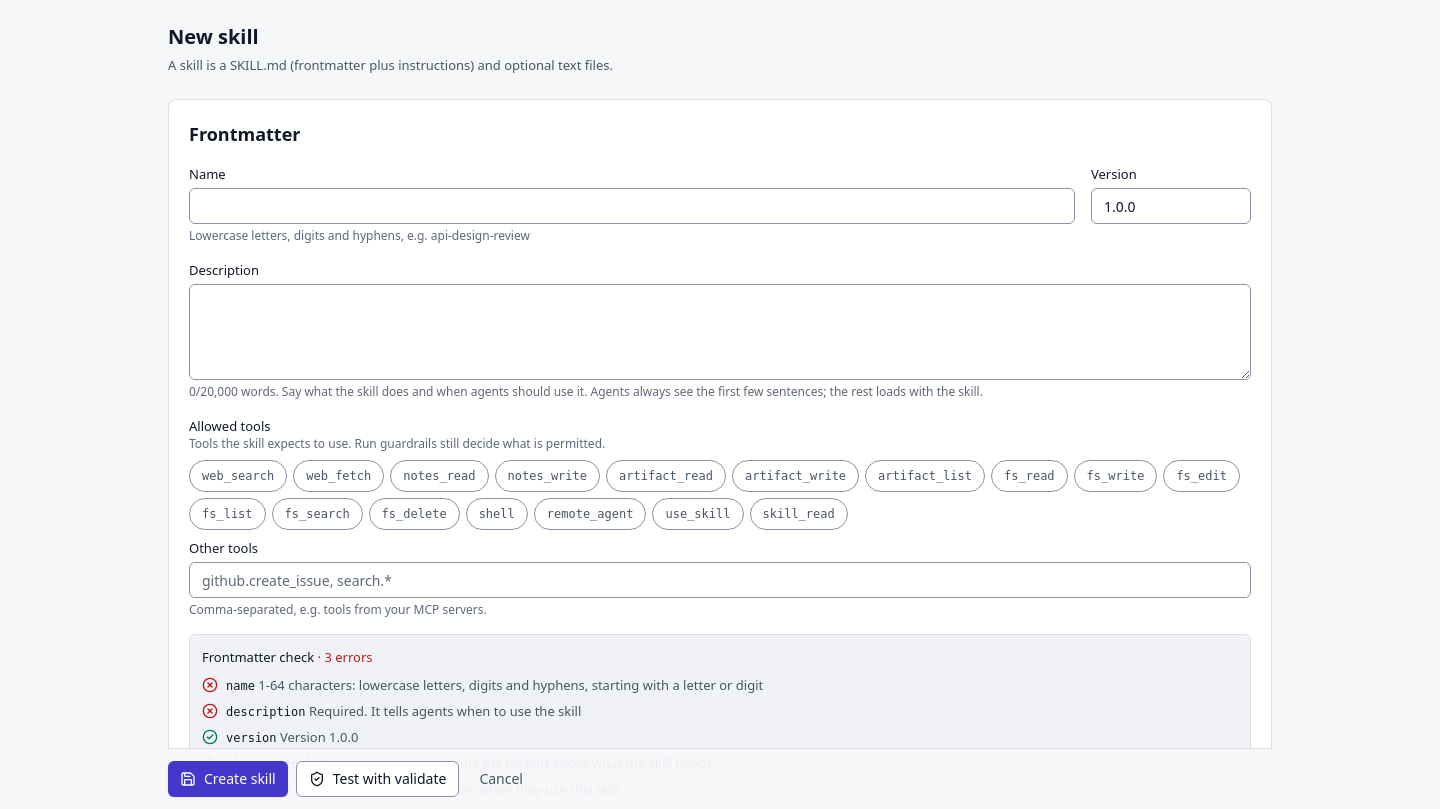
Test: SkillEditor › shows client-side errors on save and server validation errors on Validate
Click the button "Create skill": (228, 779) [168,761,288,797]
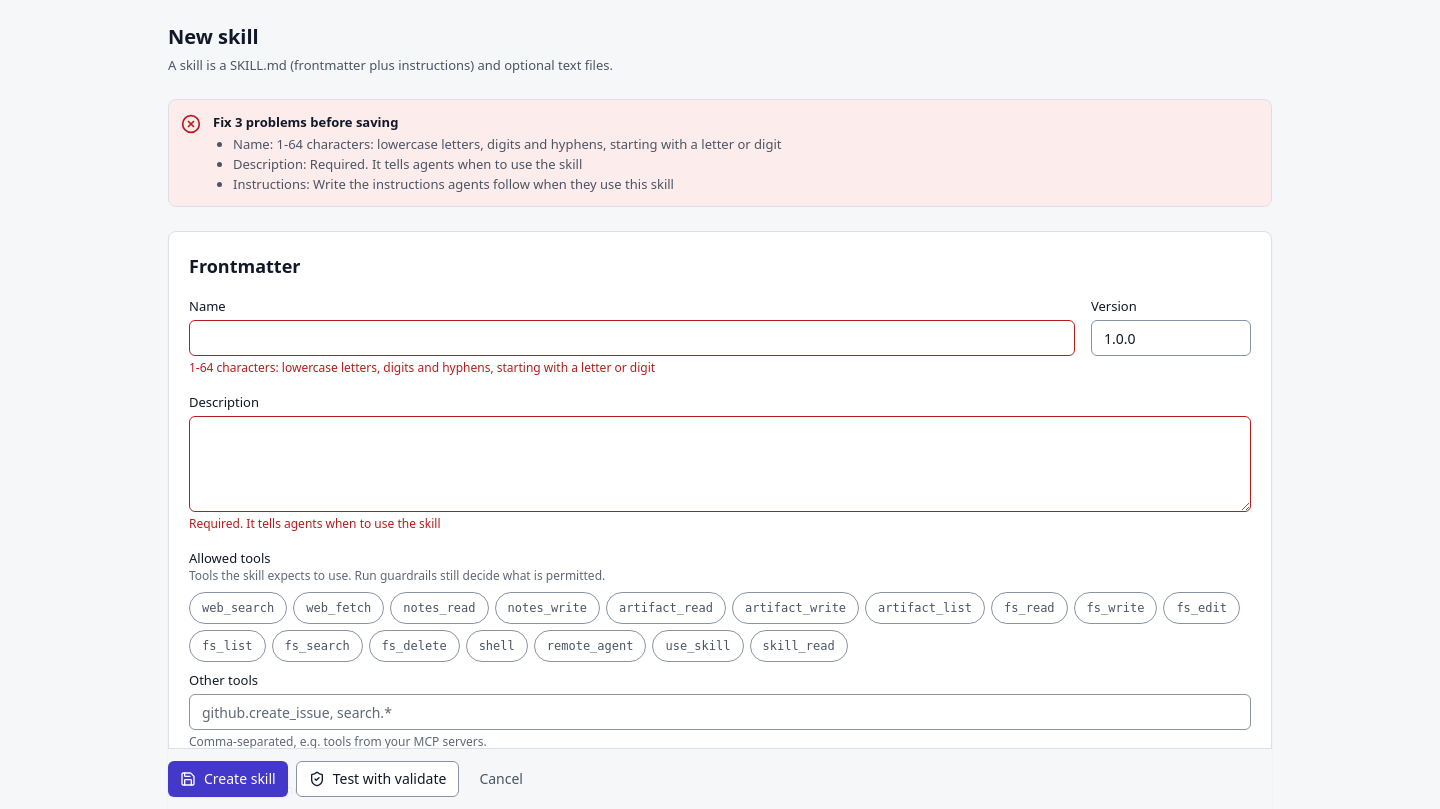
Now the text "Fix 3 problems before saving" is shown, box [213,113,398,131]
Now the list item "lowercase letters, digits and hyphens" is shown, box [233,135,782,153]
Click the button "Test with validate": (378, 779) [296,761,459,797]
(page scrolled)
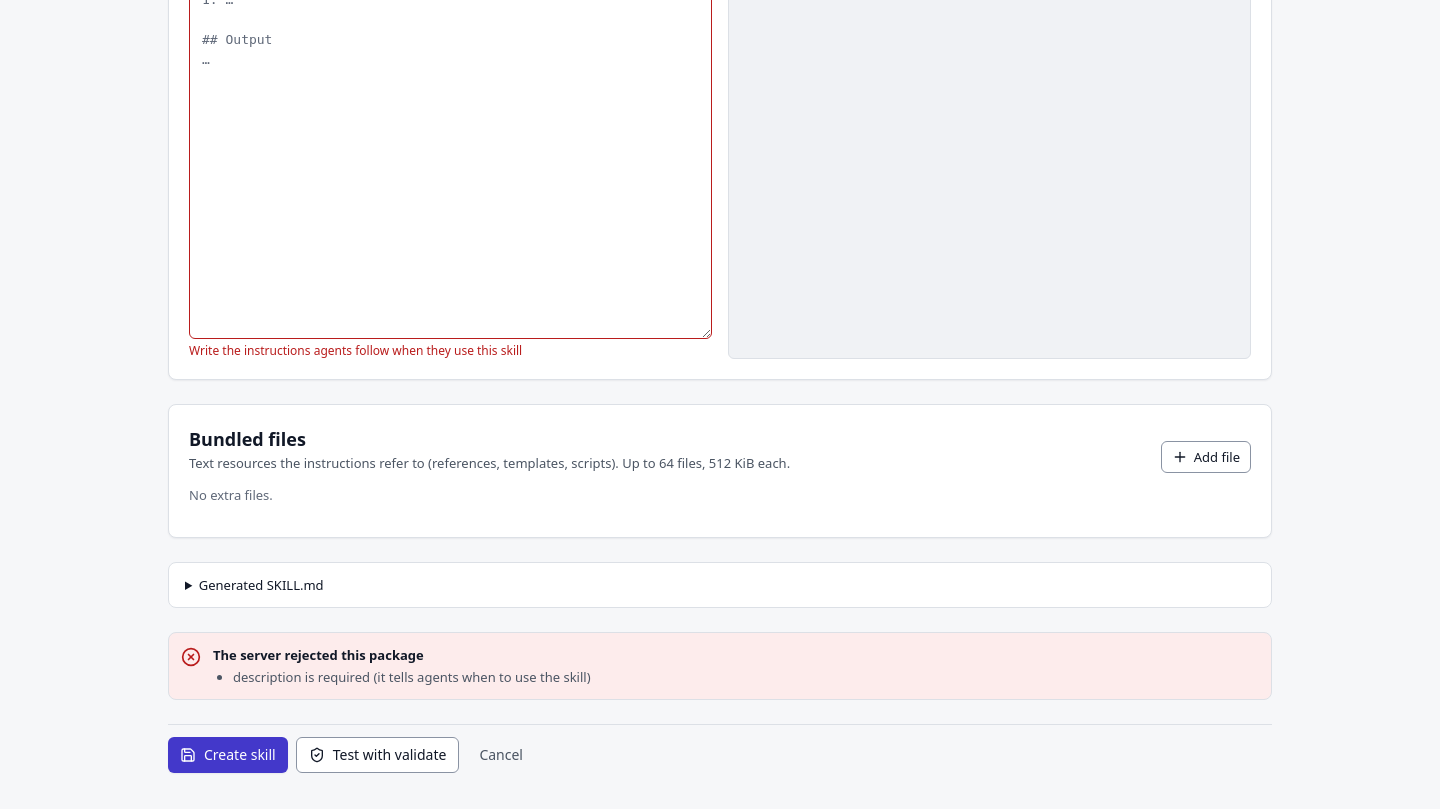
Now the text "The server rejected this package" is shown, box [213,646,424,664]
Now the list item "description is required (it tells agents when to use the skill)" is shown, box [233,668,590,686]
